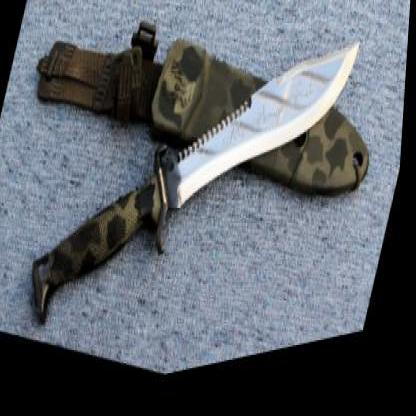knife: (156, 0, 369, 291)
